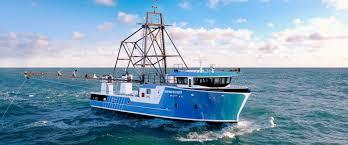Ship: (25, 12, 251, 123)
